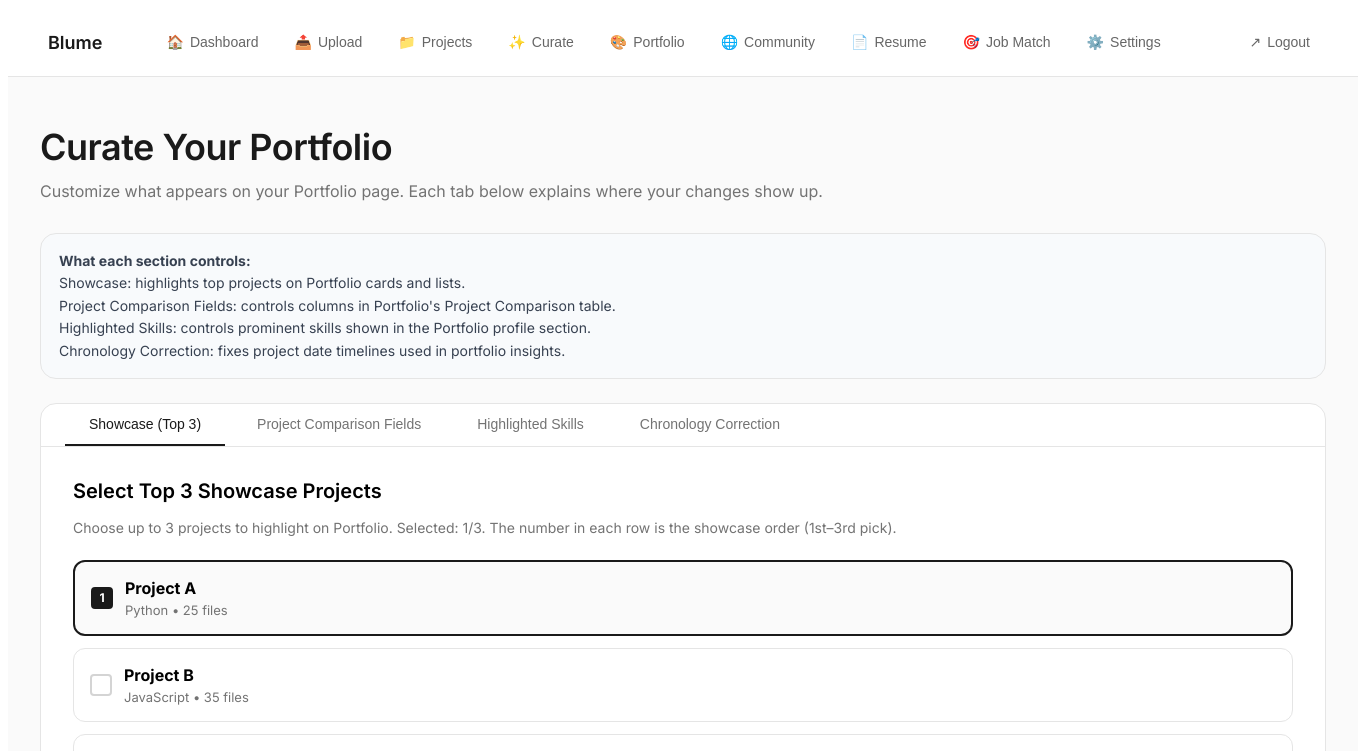
Scenario: CuratePage › Tab Navigation › switches to attributes tab when clicked
Click the button "Project Comparison Fields" at (339,425), box [233,404,445,446]
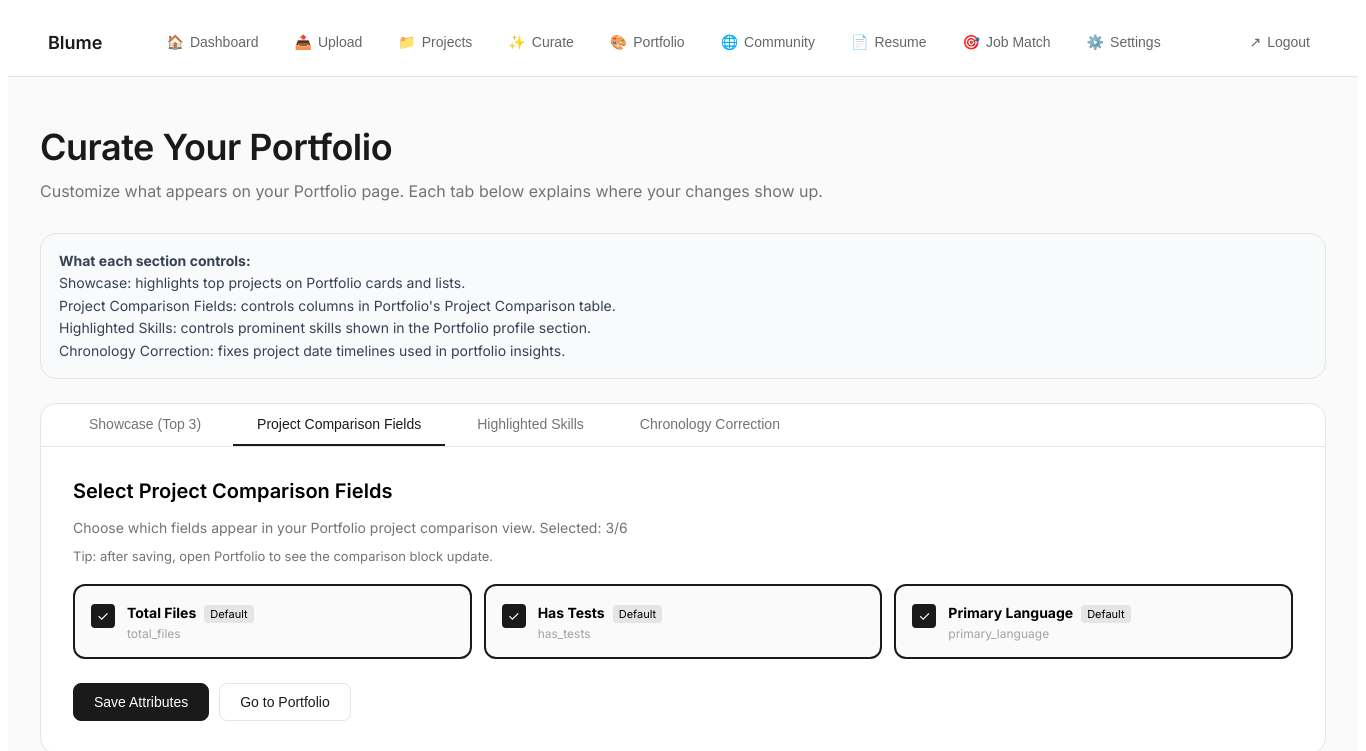
Expected: the heading "Select Project Comparison Fields" is shown, [73,479,392,503]
